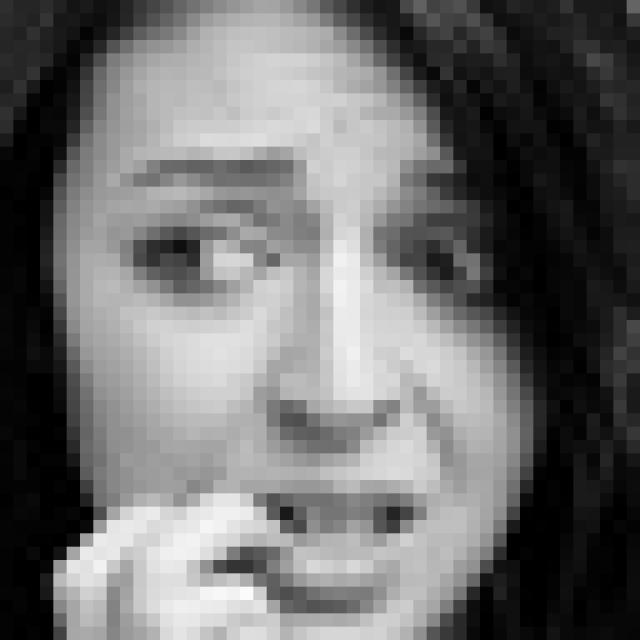fear: (125, 152, 514, 623)
